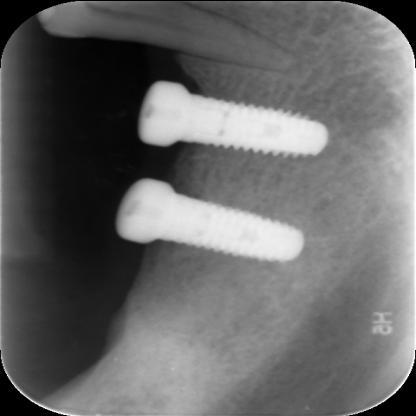Bego: (117, 178, 313, 265), (136, 77, 336, 158)
